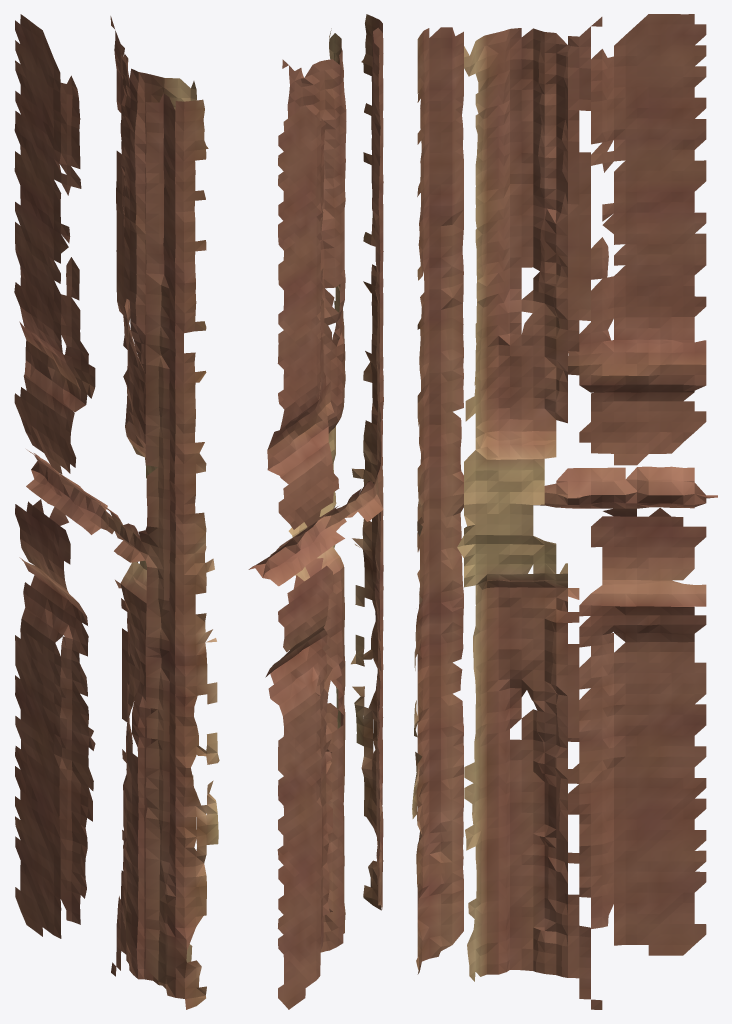
File: cabinet_door_part.obj
3 renders of one model, left to right at view 1: azimuth 30°, elevation 25°; view 2: azimuth 150°, elevation 25°; view 3: azimuth 270°, elevation 25°, orthographic. The views are drawn at different scales.
Bounding box in the file's own units: 0.0693 × 0.95 × 0.2649.
